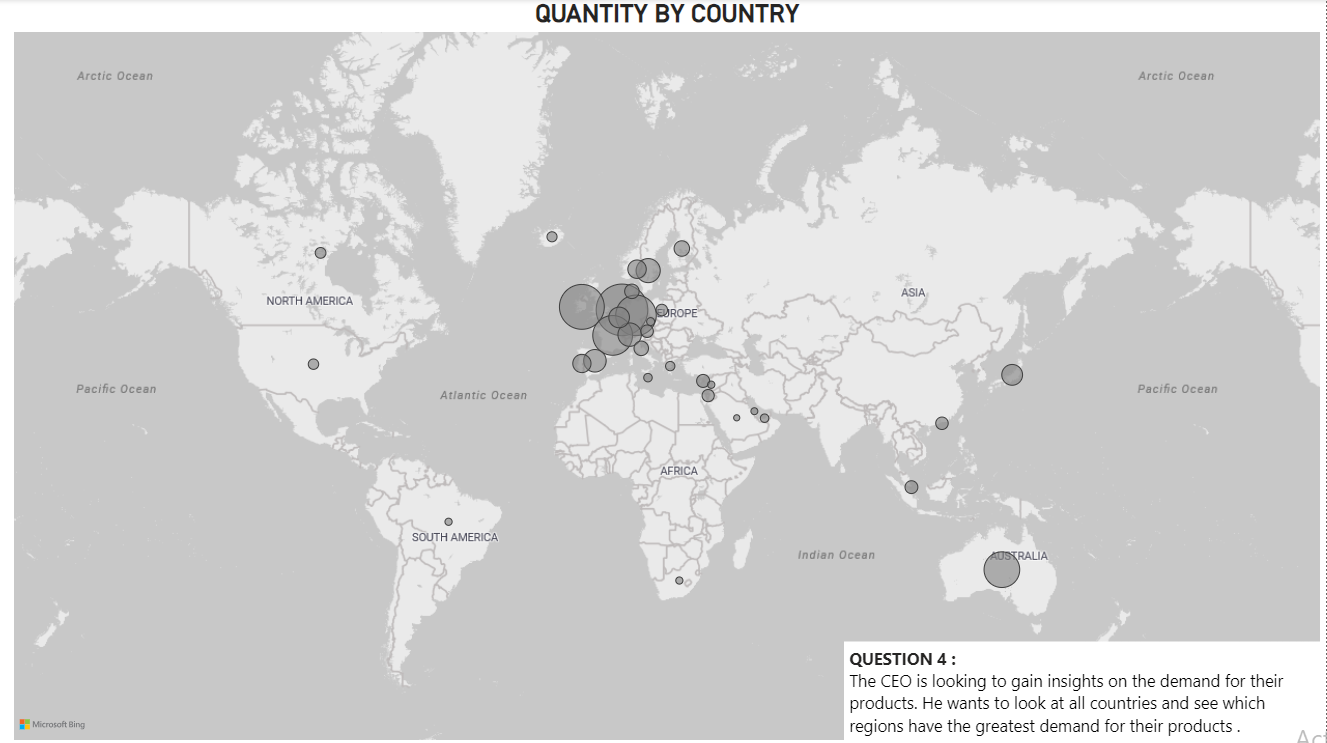

What the dashboard file says about the page in this screenshot:
{"tool":"powerbi","page":{"name":"Qn 4","canvas":[1280,720],"ordinal":3},"visuals":[{"type":"map","title":"QUANTITY BY COUNTRY","fields":{"Category":["Online Retail.Country"],"Size":["Sum(Online Retail.Quantity)"]},"box":[9.7,0,1270.3,719.8],"z":0}]}

Visuals, with their boxes in screenshot pixels (x1, y1, x2, y2), scaled from the page's 1280x720 canvas onto the 1327x743 screenshot:
"QUANTITY BY COUNTRY" map: {"left": 10, "top": 0, "right": 1326, "bottom": 742}
